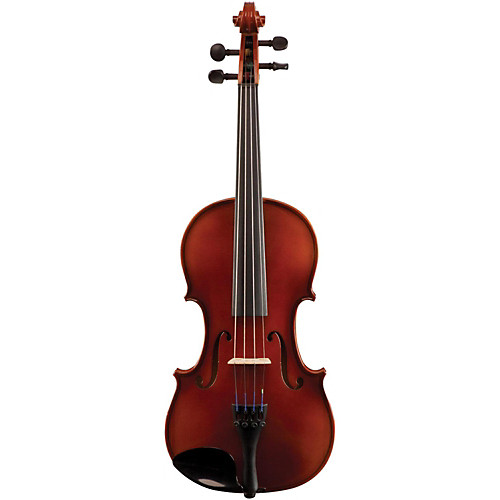Fiddle: (158, 1, 341, 495)
